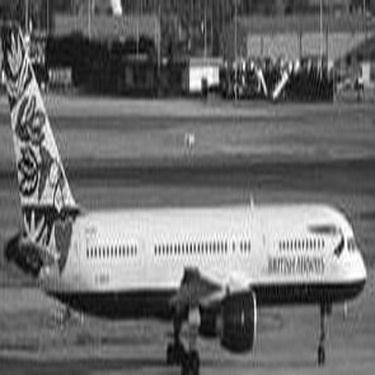airplane: (9, 21, 369, 371)
